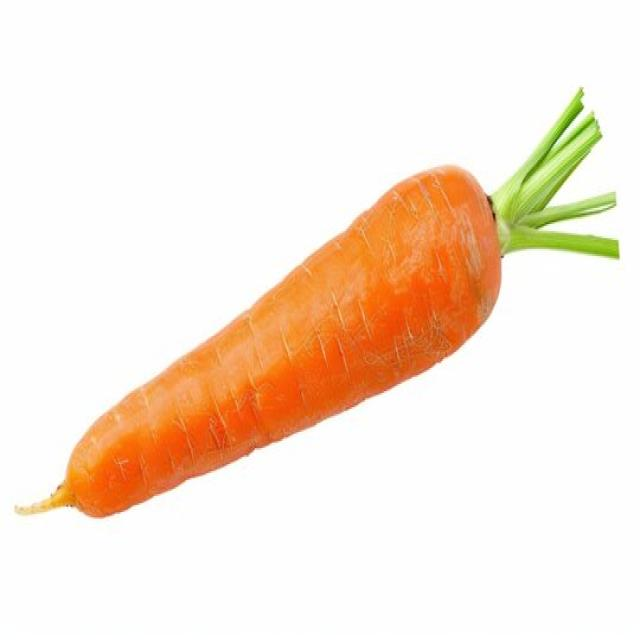Carrot: (13, 83, 620, 521)
